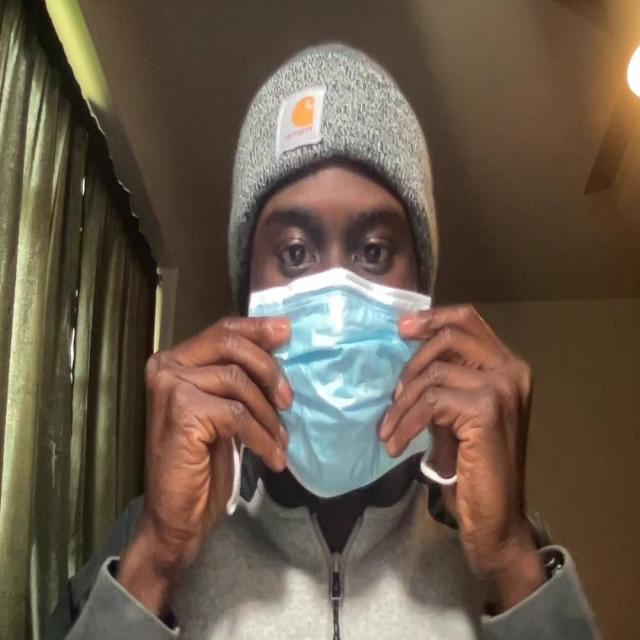face: (230, 100, 440, 498)
